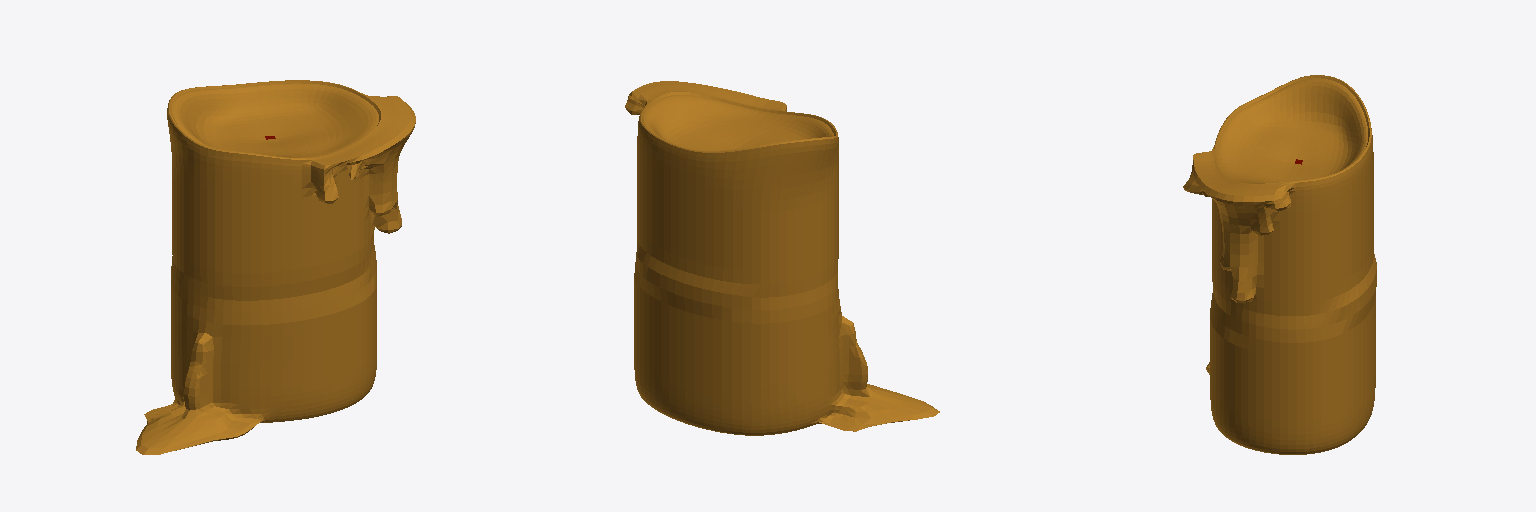
File: candle.obj
The picture shows the model from 3 angles: view 1: azimuth 30°, elevation 25°; view 2: azimuth 150°, elevation 25°; view 3: azimuth 270°, elevation 25°; orthographic projection.
Visible parts, largest first — view 1: candle group; view 2: candle group; view 3: candle group.
Boxes of the visible parts, box(x1,y1,x2,y2) form: candle group: box(136, 80, 415, 454); candle group: box(625, 81, 939, 435); candle group: box(1183, 75, 1376, 454).
Bounding box in the file's own units: 9.93 × 9.94 × 5.84.